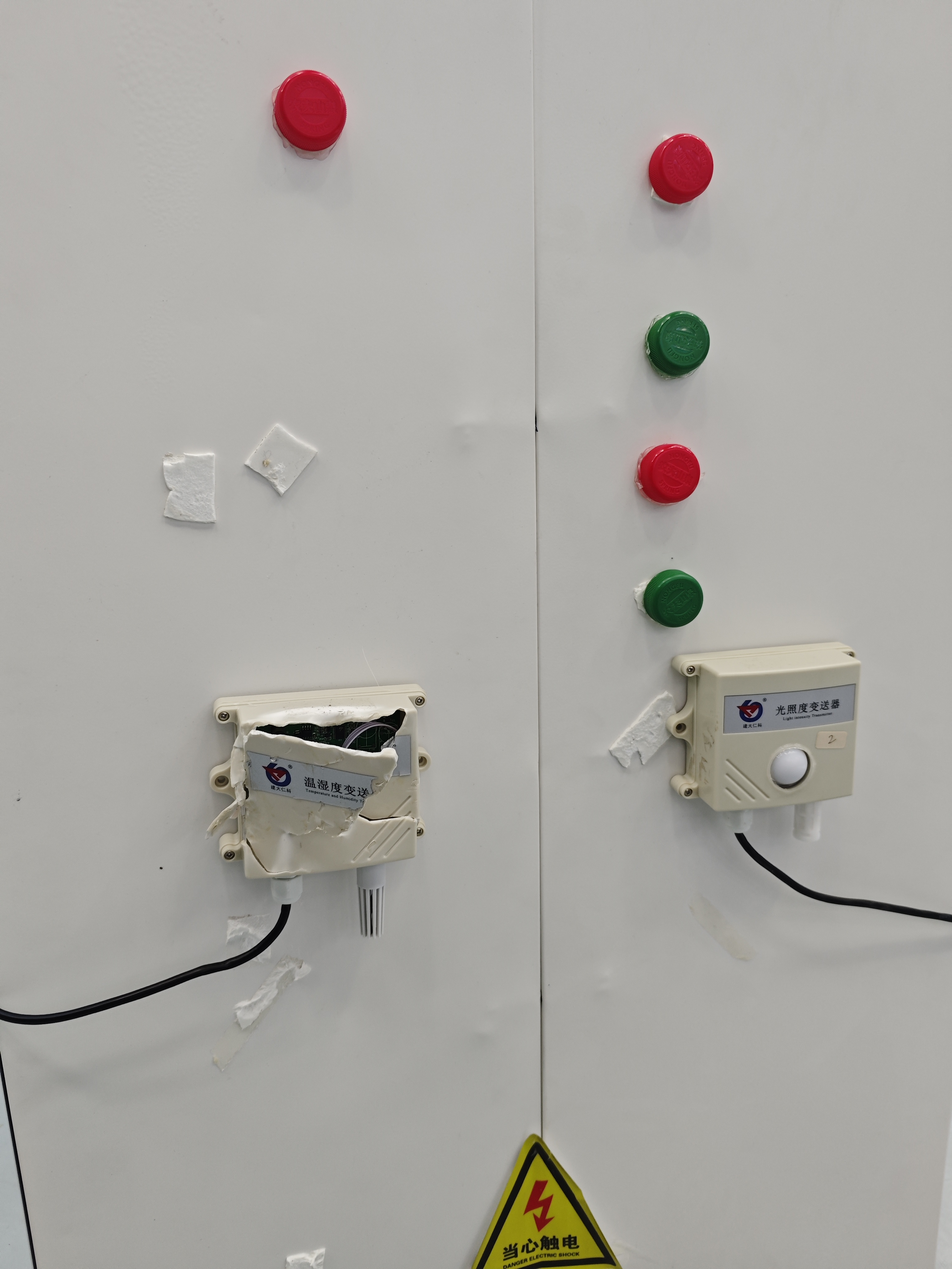red_warning: (250, 51, 391, 187), (619, 423, 744, 528), (631, 118, 725, 223)
sensor_damage: (176, 674, 483, 973)
